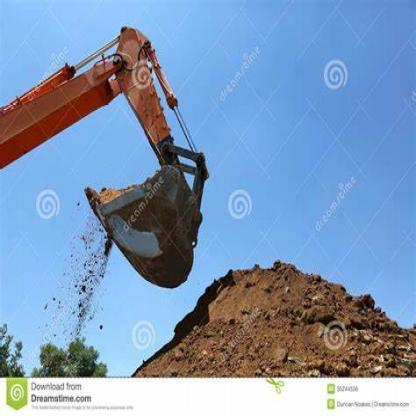excavator: (3, 21, 204, 296)
